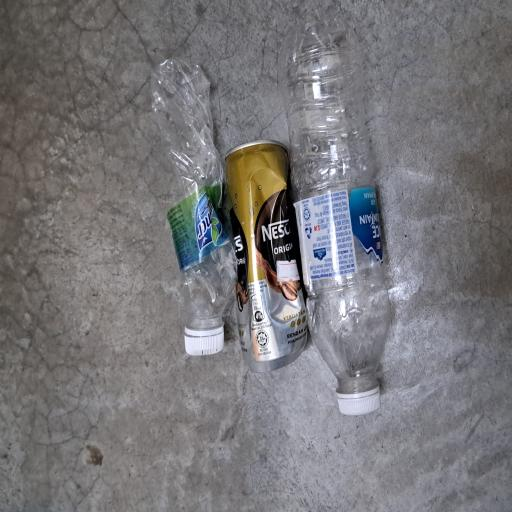can: (103, 301, 279, 412)
plastic bottle: (89, 372, 372, 512), (140, 200, 340, 318)
plastic bottle cap: (118, 246, 140, 300), (72, 450, 92, 507)
